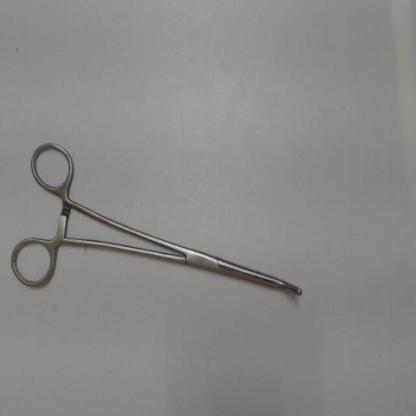Lahey Forceps: (7, 137, 308, 303)
